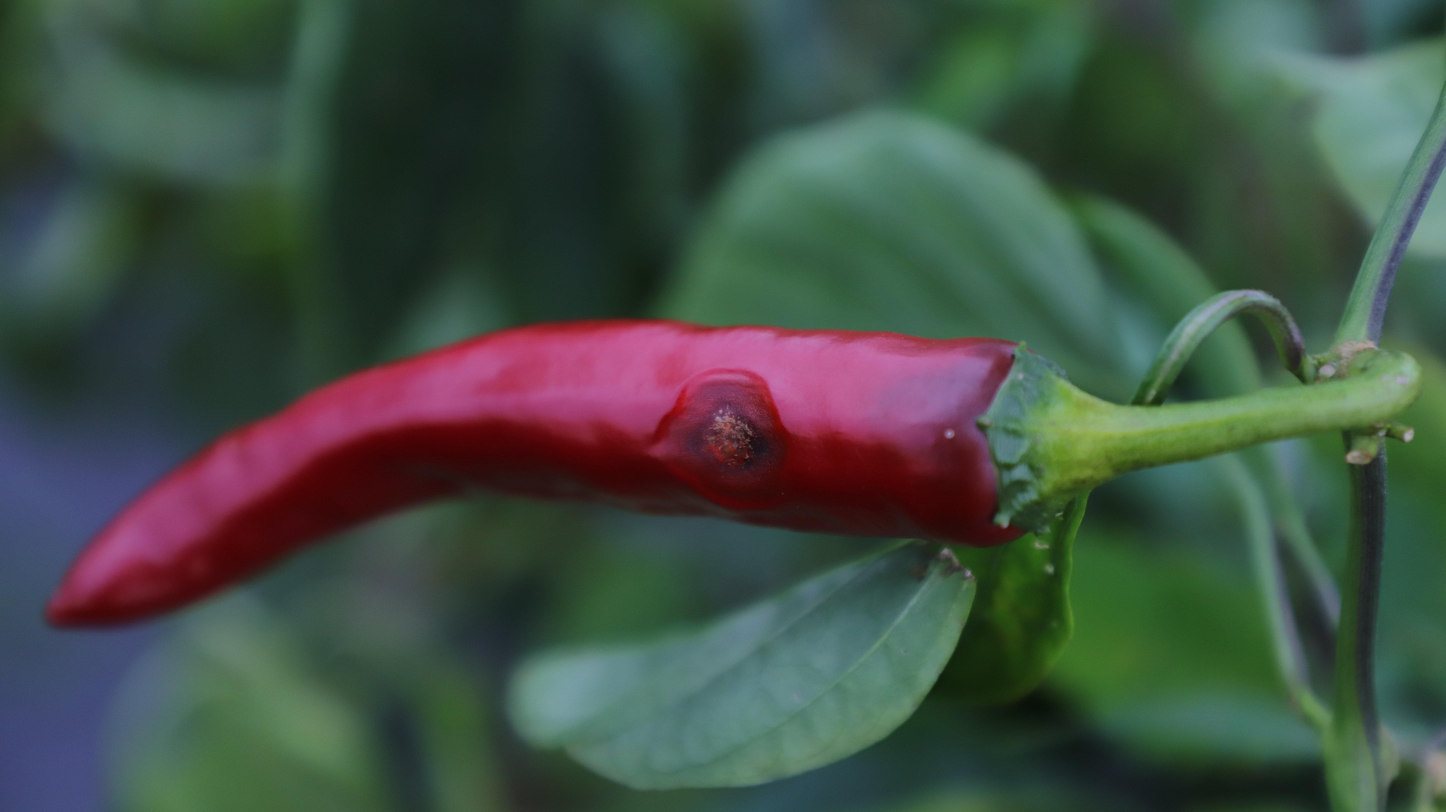Busuk Buah Antraknosa: (36, 309, 1101, 644)
